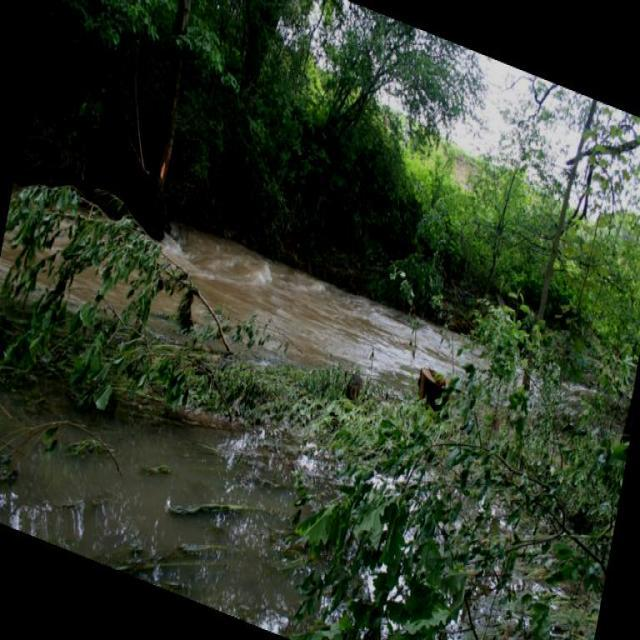flood: (0, 140, 479, 448)
